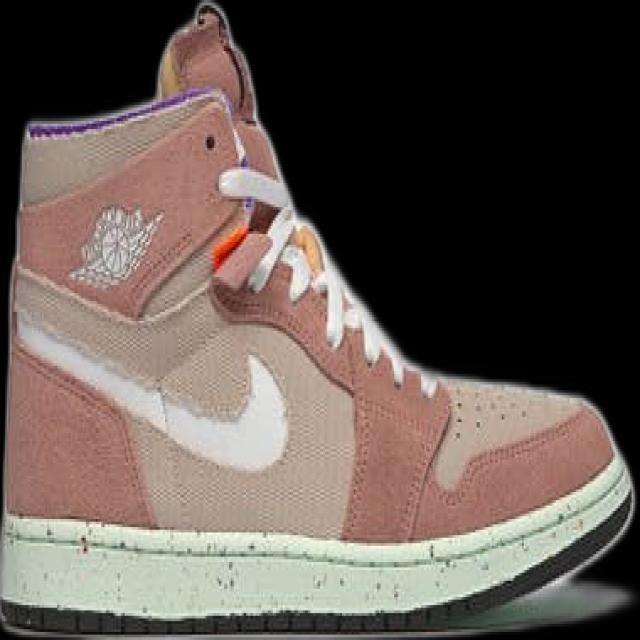J1_InsoleChar: (1, 2, 634, 635)
J1_ShoeLogo: (67, 201, 165, 290)
J1_StitchPattern: (154, 2, 442, 402), (3, 468, 633, 625), (210, 161, 441, 399), (211, 165, 358, 347), (22, 89, 220, 142), (243, 204, 326, 301)
